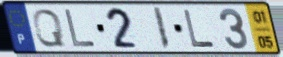2: (104, 6, 142, 51)
3: (218, 7, 250, 51)
I: (152, 6, 173, 51)
L: (181, 8, 217, 49), (63, 9, 98, 49)
Q: (31, 7, 68, 49)
